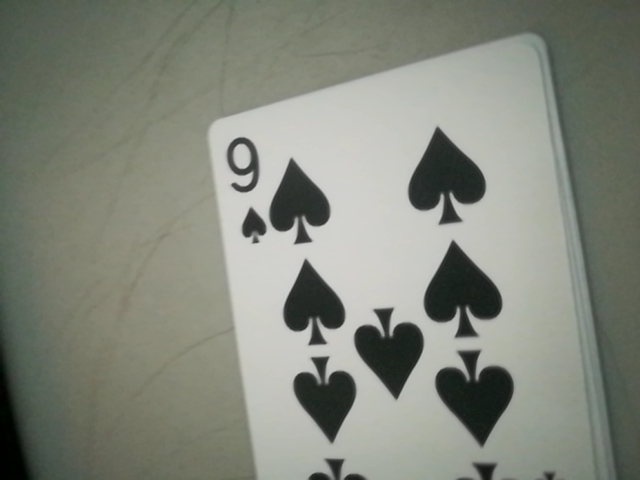ht 9: (215, 127, 279, 252)
